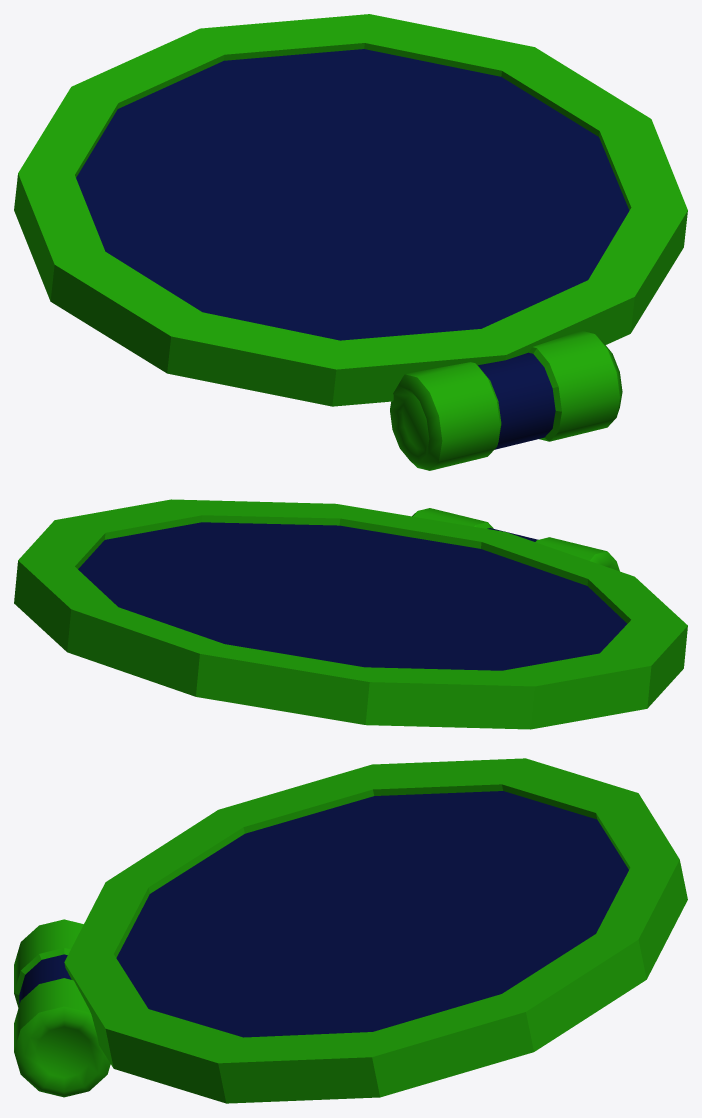
File: OBJ_Porte_Tuyau.fbx
The picture shows the model from 3 angles, top to bottom: view 1: azimuth 30°, elevation 25°; view 2: azimuth 150°, elevation 25°; view 3: azimuth 270°, elevation 25°; orthographic projection.
Parts seen in each view (by area): view 1: OBJ_Porte_Tuyau; view 2: OBJ_Porte_Tuyau; view 3: OBJ_Porte_Tuyau.
Part boxes in pixels (box(x1,y1,x2,y2)): OBJ_Porte_Tuyau: box(14, 14, 687, 470); OBJ_Porte_Tuyau: box(14, 499, 687, 729); OBJ_Porte_Tuyau: box(14, 758, 687, 1103).
Bounding box in the file's own units: 7.2 × 2.23 × 7.
